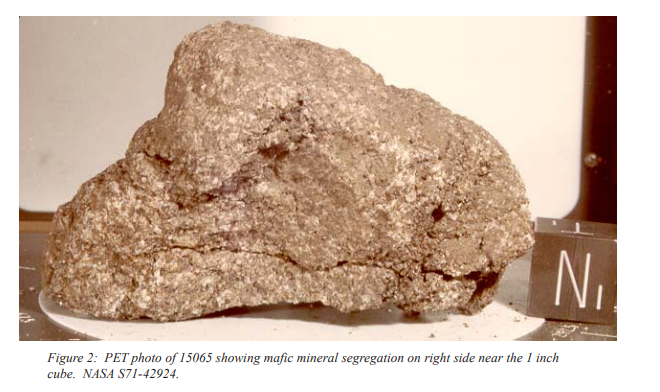Basalt: (57, 78, 505, 312), (103, 73, 489, 294)
